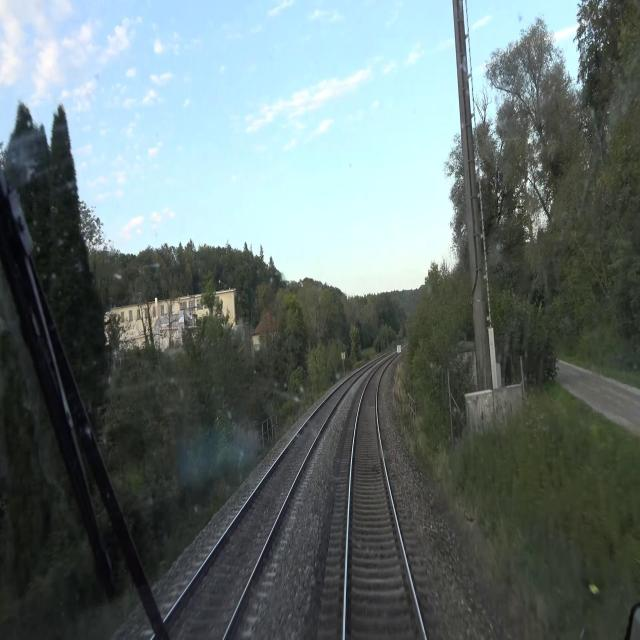rail-track: (179, 379, 351, 639), (347, 366, 423, 639)
